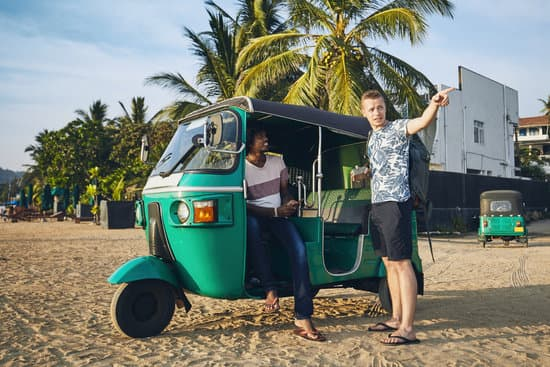threewheel: (107, 95, 424, 340), (478, 189, 529, 248)
